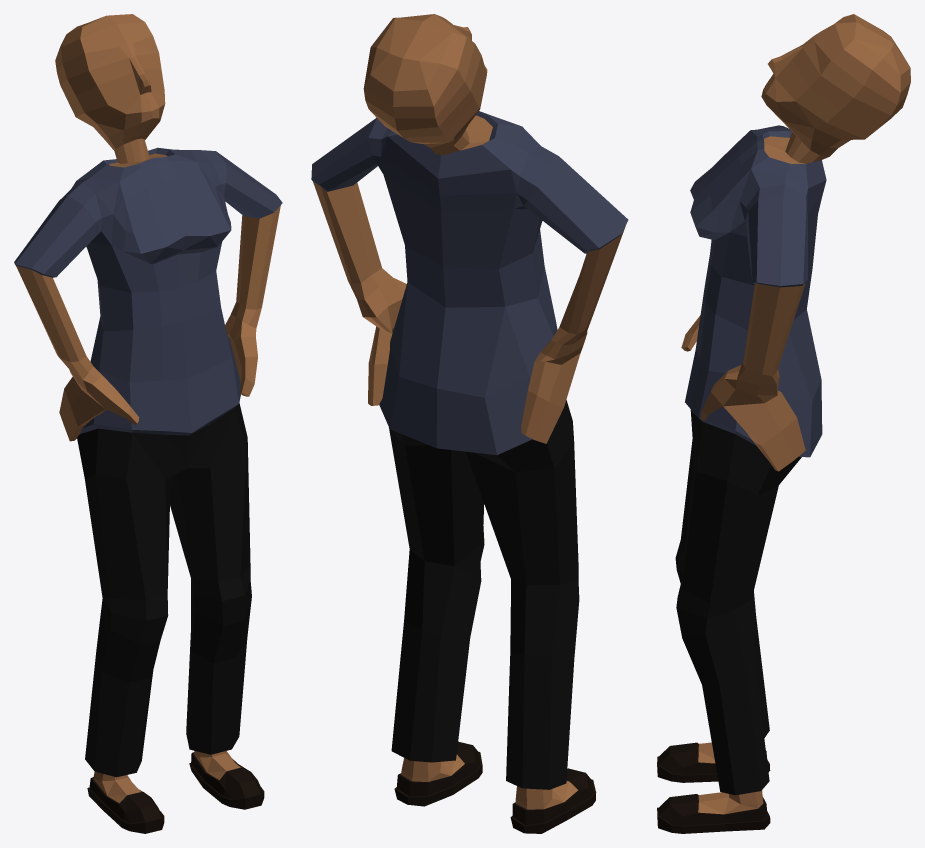
File: Female_LookingUp.obj
3 renders of one model, left to right at view 1: azimuth 30°, elevation 25°; view 2: azimuth 150°, elevation 25°; view 3: azimuth 270°, elevation 25°, orthographic. The views are drawn at different scales.
Visible parts, largest first — view 1: Female_LookingUp_Cylinder.002; view 2: Female_LookingUp_Cylinder.002; view 3: Female_LookingUp_Cylinder.002.
Boxes of the visible parts, box(x1,y1,x2,y2) form: Female_LookingUp_Cylinder.002: box(14, 14, 282, 833); Female_LookingUp_Cylinder.002: box(311, 14, 628, 833); Female_LookingUp_Cylinder.002: box(657, 14, 910, 833).
Size of the model in its own units: 1.36 by 3.59 by 1.07.
